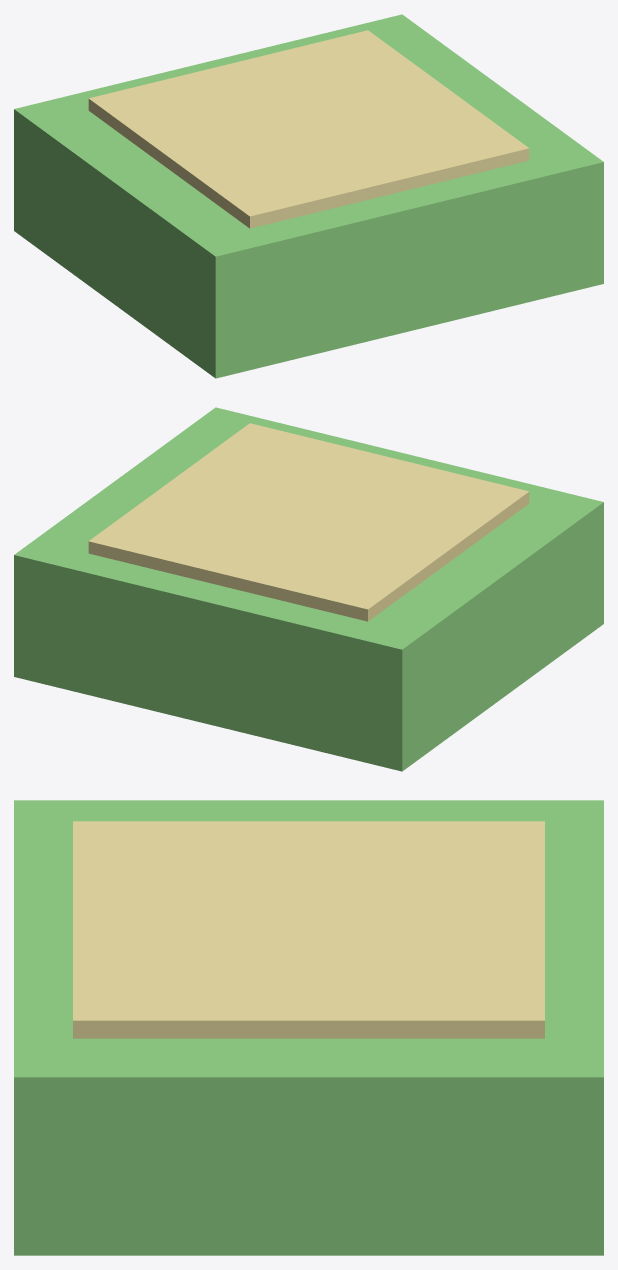
The model's file is Prop_Pet_AMF_Bowl_V10.glb.
The picture shows the model from 3 angles, top to bottom: view 1: azimuth 30°, elevation 25°; view 2: azimuth 150°, elevation 25°; view 3: azimuth 270°, elevation 25°; orthographic projection. The views are drawn at different scales.
Parts seen in each view (by area): view 1: Prop_Pet_AMF_Bowl_V10; view 2: Prop_Pet_AMF_Bowl_V10; view 3: Prop_Pet_AMF_Bowl_V10.
Boxes of the visible parts, <box> form: Prop_Pet_AMF_Bowl_V10: <box>14,14,603,378</box>; Prop_Pet_AMF_Bowl_V10: <box>14,407,603,771</box>; Prop_Pet_AMF_Bowl_V10: <box>14,800,603,1255</box>.
Bounding box in the file's own units: 0.3334 × 0.11 × 0.3.
